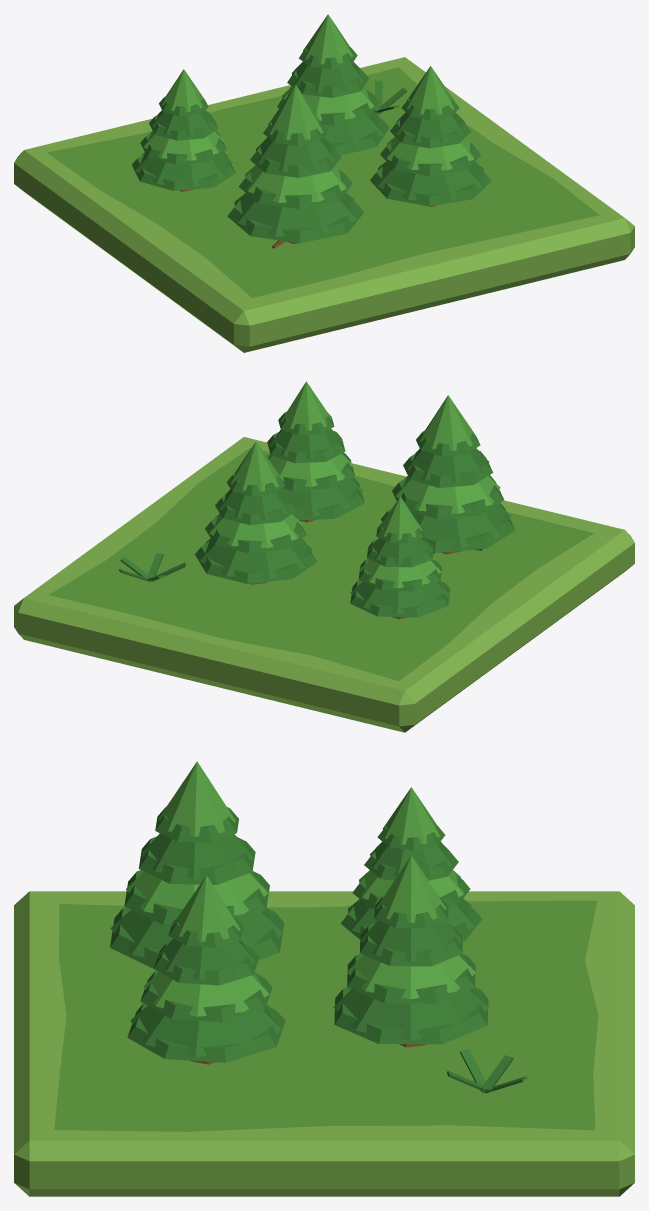
Rendered from tile_forest_c.fbx.
The picture shows the model from 3 angles, top to bottom: view 1: azimuth 30°, elevation 25°; view 2: azimuth 150°, elevation 25°; view 3: azimuth 270°, elevation 25°; orthographic projection. The views are drawn at different scales.
Visible parts, largest first — view 1: tile_forest_c; view 2: tile_forest_c; view 3: tile_forest_c.
Part boxes in pixels (x1=…): tile_forest_c: x1=14, y1=14, x2=634, y2=352; tile_forest_c: x1=14, y1=381, x2=634, y2=732; tile_forest_c: x1=14, y1=761, x2=634, y2=1196.
Size of the model in its own units: 1 by 0.464 by 1.
